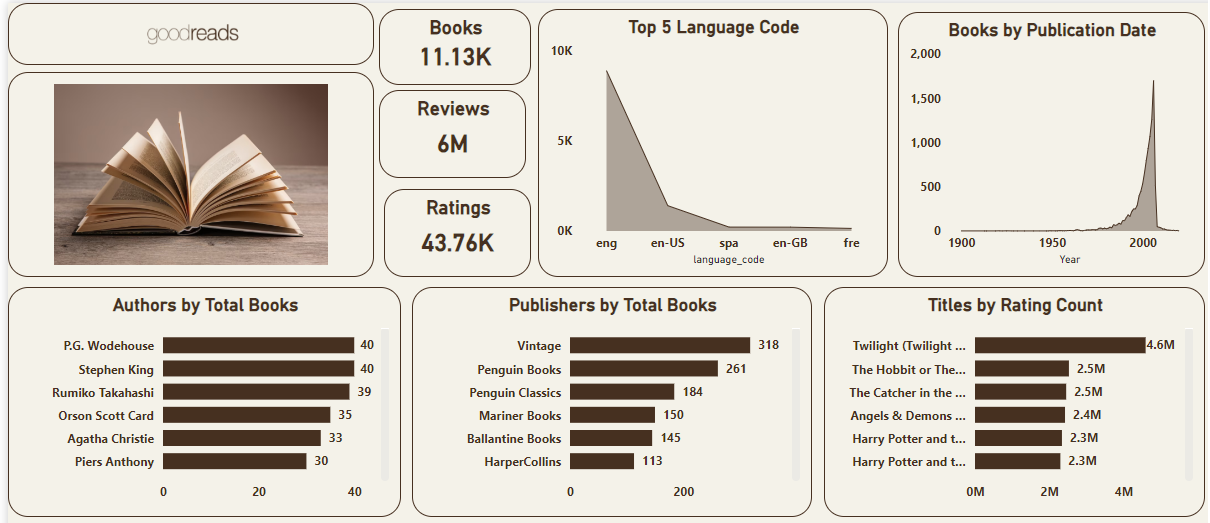

The dashboard page shown, as its layout file describes it:
{"tool":"powerbi","page":{"name":"Page 1","canvas":[1280,720],"ordinal":0},"visuals":[{"type":"areaChart","title":"Books by Publication Date","fields":{"Category":["goodreads_dataset.publication_date.Variation.Date Hierarchy.Year"],"Y":["goodreads_dataset.bookID"]},"box":[890,9,307,265],"z":0},{"type":"clusteredBarChart","title":"Authors by Total Books","fields":{"Category":["goodreads_dataset.authors"],"Y":["goodreads_dataset.bookID"]},"box":[0,284,393,230],"z":1000},{"type":"clusteredBarChart","title":"Publishers by Total Books","fields":{"Y":["goodreads_dataset.bookID"],"Category":["goodreads_dataset.publisher"]},"box":[404,284,400,230],"z":2000},{"type":"clusteredBarChart","title":"Titles by Rating Count","fields":{"Category":["goodreads_dataset.title"],"Y":["goodreads_dataset.ratings_count"]},"box":[816,284,381,230],"z":3000},{"type":"image","box":[0,69,366,205],"z":4000},{"type":"image","box":[0,0,366,62],"z":5000},{"type":"areaChart","title":"Top 5 Language Code","fields":{"Category":["goodreads_dataset.language_code"],"Y":["goodreads_dataset.bookID"]},"box":[530,6,350,268],"z":6000},{"type":"card","title":"Books","fields":{"Values":["goodreads_dataset.bookID"]},"box":[371,6,152,76],"z":7000},{"type":"card","title":"Ratings","fields":{"Values":["goodreads_dataset.average_rating"]},"box":[376,186,147,88],"z":8000},{"type":"card","title":"Reviews","fields":{"Values":["goodreads_dataset.text_reviews_count"]},"box":[371,87,147,88],"z":9000}]}

Visuals, with their boxes on the page's 1280x720 design canvas (x1, y1, x2, y2). These are canvas units, not pixel positions in the 1210x523 screenshot, which may show the page scaled, cropped or inside an application window:
"Books by Publication Date" areaChart: box=[890, 9, 1197, 274]
"Authors by Total Books" clusteredBarChart: box=[0, 284, 393, 514]
"Publishers by Total Books" clusteredBarChart: box=[404, 284, 804, 514]
"Titles by Rating Count" clusteredBarChart: box=[816, 284, 1197, 514]
image: box=[0, 69, 366, 274]
image: box=[0, 0, 366, 62]
"Top 5 Language Code" areaChart: box=[530, 6, 880, 274]
"Books" card: box=[371, 6, 523, 82]
"Ratings" card: box=[376, 186, 523, 274]
"Reviews" card: box=[371, 87, 518, 175]
